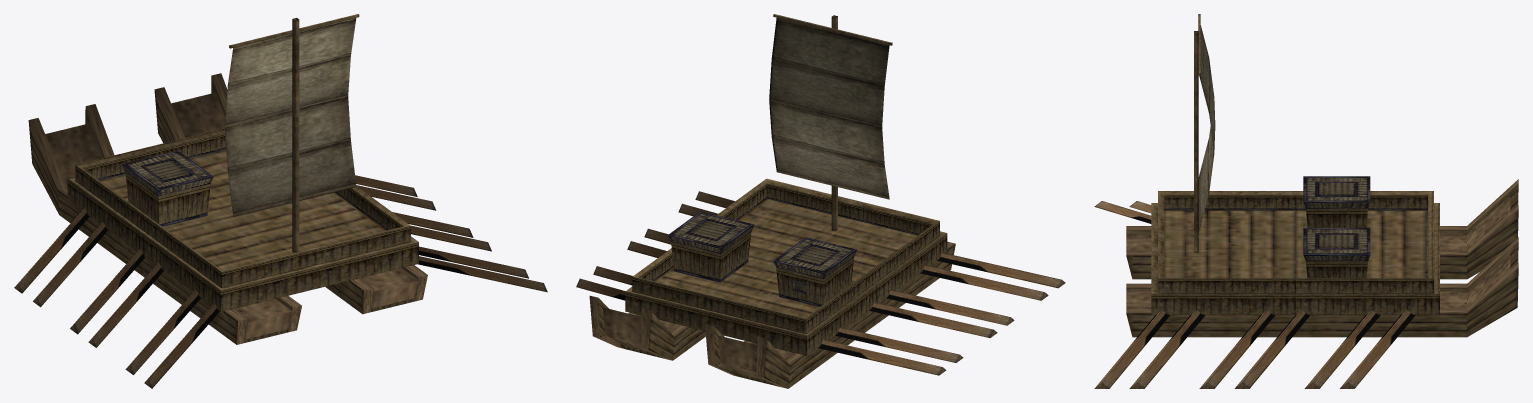
File: mc_san11.ico.obj
3 views of the same model, side by side, from view 1: azimuth 30°, elevation 25°; view 2: azimuth 150°, elevation 25°; view 3: azimuth 270°, elevation 25° (orthographic). The views are drawn at different scales.
Bounding box in the file's own units: 4.95 × 3.37 × 4.88.
Materials: 1 (1 with a texture image).
